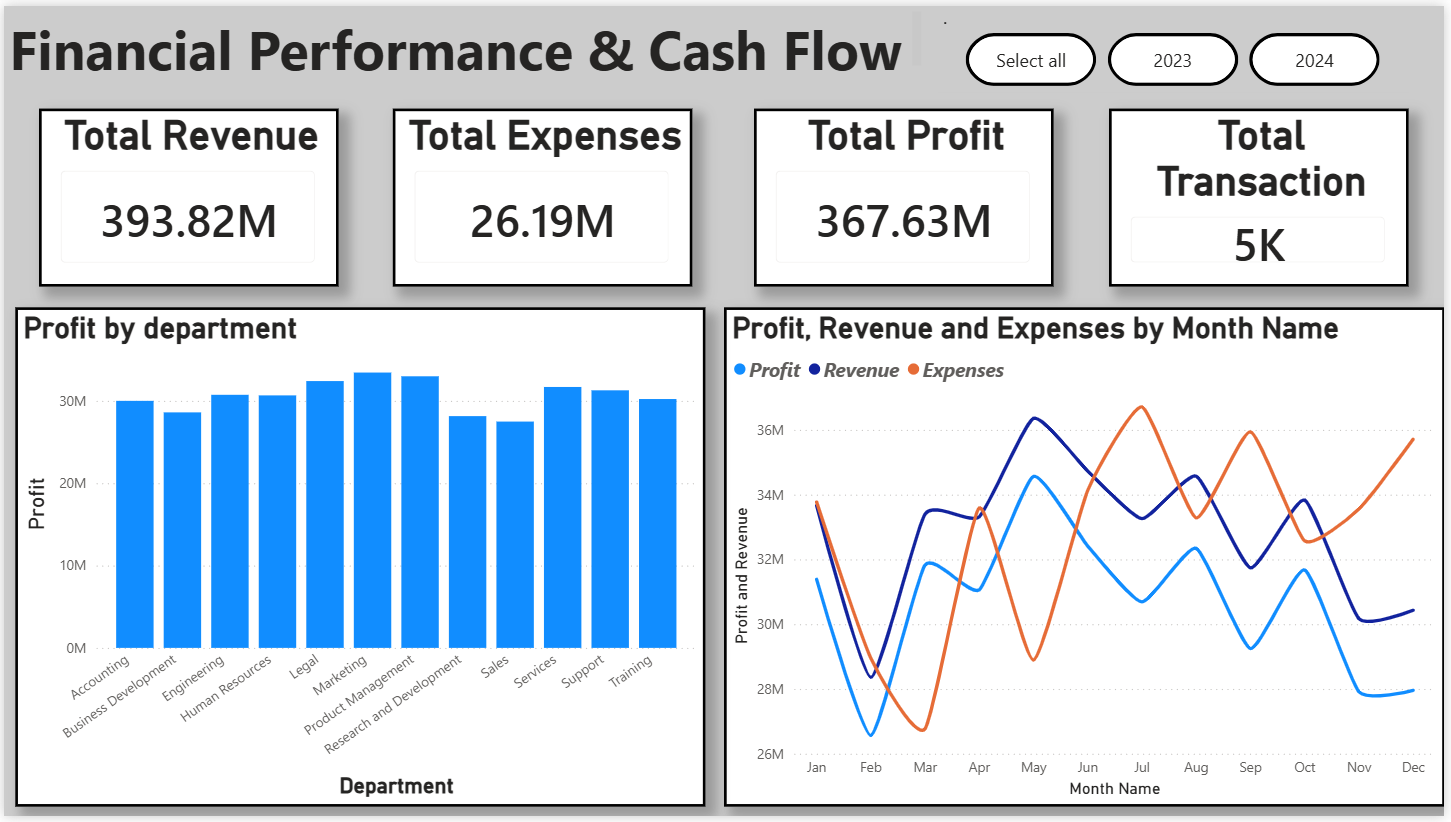

This screenshot's page, from the dashboard's own definition file:
{"tool":"powerbi","page":{"name":"Executive Overview","canvas":[1280,720],"ordinal":0},"visuals":[{"type":"cardVisual","title":"Total Revenue ","fields":{"Data":["finance_cleaned.Revenue"]},"box":[31,91.1,266.5,158.2],"z":0},{"type":"cardVisual","title":"Total Transaction ","fields":{"Data":["finance_cleaned.Total_Transaction"]},"box":[981.9,91.1,266.5,158.2],"z":1000},{"type":"cardVisual","title":"Total Profit","fields":{"Data":["finance_cleaned.Profit"]},"box":[667.2,91.1,266.5,158.2],"z":2000},{"type":"cardVisual","title":"Total Expenses","fields":{"Data":["finance_cleaned.Expenses"]},"box":[345.6,91.1,266.5,158.2],"z":3000},{"type":"textbox","box":[0,0,820.2,65.3],"z":4000},{"type":"advancedSlicerVisual","title":".","fields":{"Values":["Date.Year"]},"box":[830,0,419.3,77],"z":5000},{"type":"lineChart","fields":{"Y":["finance_cleaned.Profit","finance_cleaned.Revenue"],"Y2":["finance_cleaned.Expenses"],"Category":["Date.Month Name"]},"box":[639.5,267.4,640.7,444.2],"z":6000},{"type":"columnChart","fields":{"Y":["finance_cleaned.Profit"],"Category":["finance_cleaned.department"]},"box":[10.5,267.4,614,444.2],"z":7000}]}

Visuals, with their boxes in screenshot pixels (x1, y1, x2, y2), scaled from the page's 1280x720 canvas onto the 1451x822 screenshot:
"Total Revenue " cardVisual: bbox(35, 104, 337, 285)
"Total Transaction " cardVisual: bbox(1113, 104, 1415, 285)
"Total Profit" cardVisual: bbox(756, 104, 1058, 285)
"Total Expenses" cardVisual: bbox(392, 104, 694, 285)
textbox: bbox(0, 0, 930, 75)
"." advancedSlicerVisual: bbox(941, 0, 1416, 88)
lineChart - finance_cleaned.Profit x finance_cleaned.Revenue: bbox(725, 305, 1450, 812)
columnChart - finance_cleaned.Profit x finance_cleaned.department: bbox(12, 305, 708, 812)
